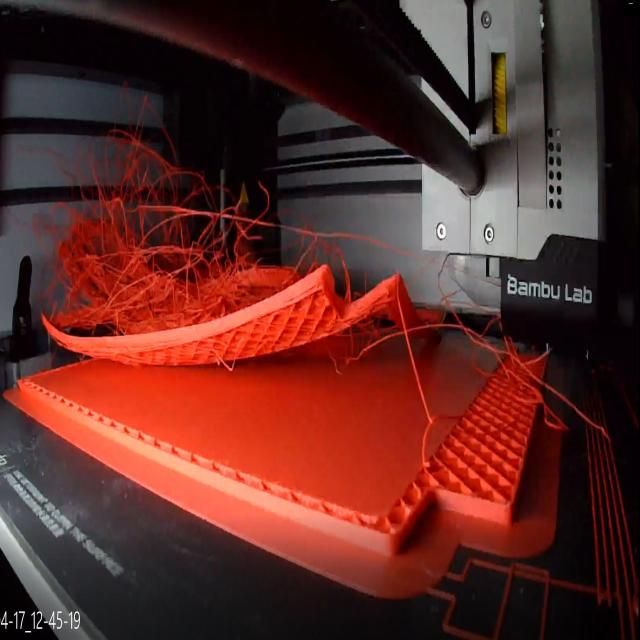Spaghetti: (38, 125, 342, 356), (394, 260, 586, 456)
